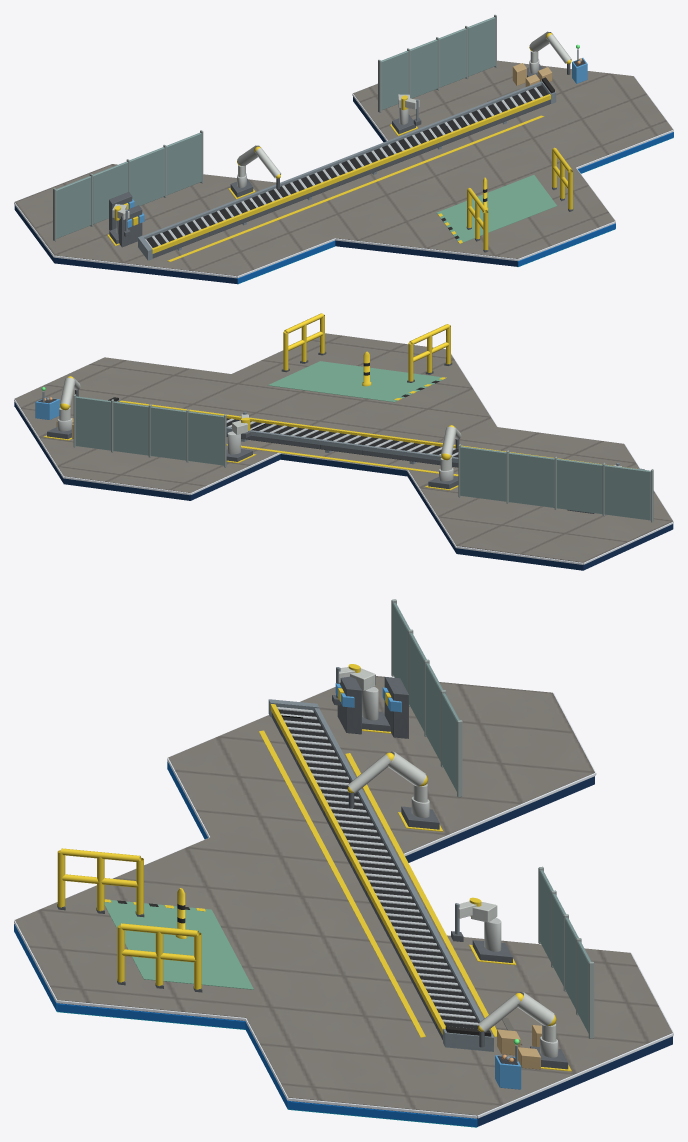
File: field_cm15_01.glb
3 renders of one model, top to bottom at view 1: azimuth 30°, elevation 25°; view 2: azimuth 150°, elevation 25°; view 3: azimuth 270°, elevation 25°, orthographic. The views are drawn at different scales.
Parts seen in each view (by area): view 1: field_cm15_01-static; view 2: field_cm15_01-static; view 3: field_cm15_01-static.
Boxes of the visible parts, bbox=[...] form: field_cm15_01-static: bbox=[14, 14, 673, 284]; field_cm15_01-static: bbox=[14, 313, 673, 570]; field_cm15_01-static: bbox=[14, 599, 673, 1127].
Size of the model in its own units: 19.17 by 1.92 by 12.12.
Materials: 1 (1 with a texture image).
